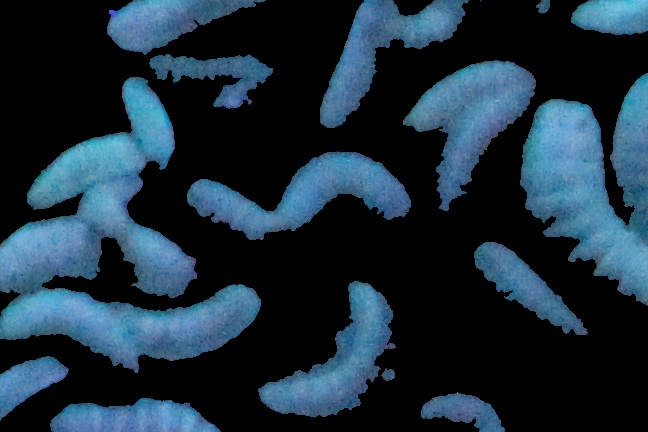larvae: (525, 96, 648, 295), (260, 283, 404, 418), (429, 79, 529, 236), (79, 172, 194, 288), (472, 235, 594, 338), (1, 292, 139, 372), (274, 154, 414, 229), (317, 1, 398, 128), (136, 286, 264, 366), (403, 55, 538, 130), (104, 1, 296, 51), (24, 129, 145, 208), (1, 218, 105, 290), (42, 398, 242, 432), (608, 68, 648, 235), (116, 79, 179, 171), (397, 1, 499, 50), (187, 180, 270, 240), (418, 385, 508, 432), (1, 355, 68, 415), (560, 1, 648, 39)
